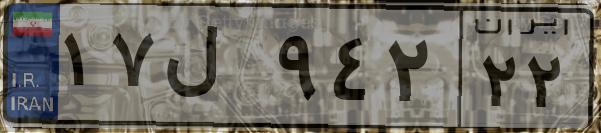1: (57, 26, 110, 100)
2: (385, 28, 445, 110), (475, 38, 525, 113), (525, 38, 570, 115)
4: (330, 28, 385, 110)
7: (110, 28, 158, 98)
9: (270, 28, 330, 110)
ل: (158, 20, 270, 120)
